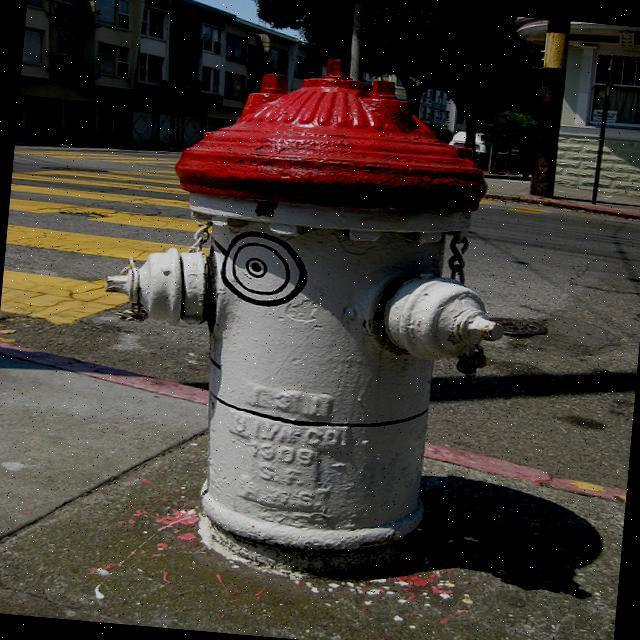fire_hydrant: (76, 45, 522, 600)
